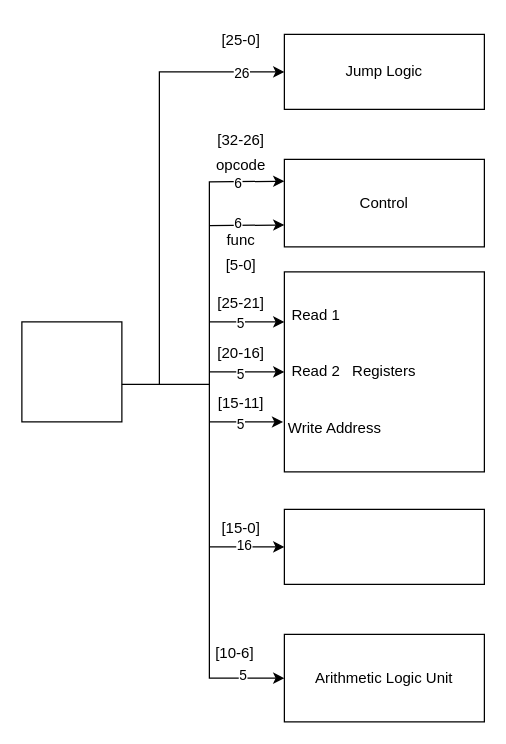
This 506x744 diagram has some shape labels left out. The box of each missing label's shape, as (x1, y1, x2, y2) in pixels:
Extender: (283, 508, 484, 584)
PC: (21, 321, 122, 422)
